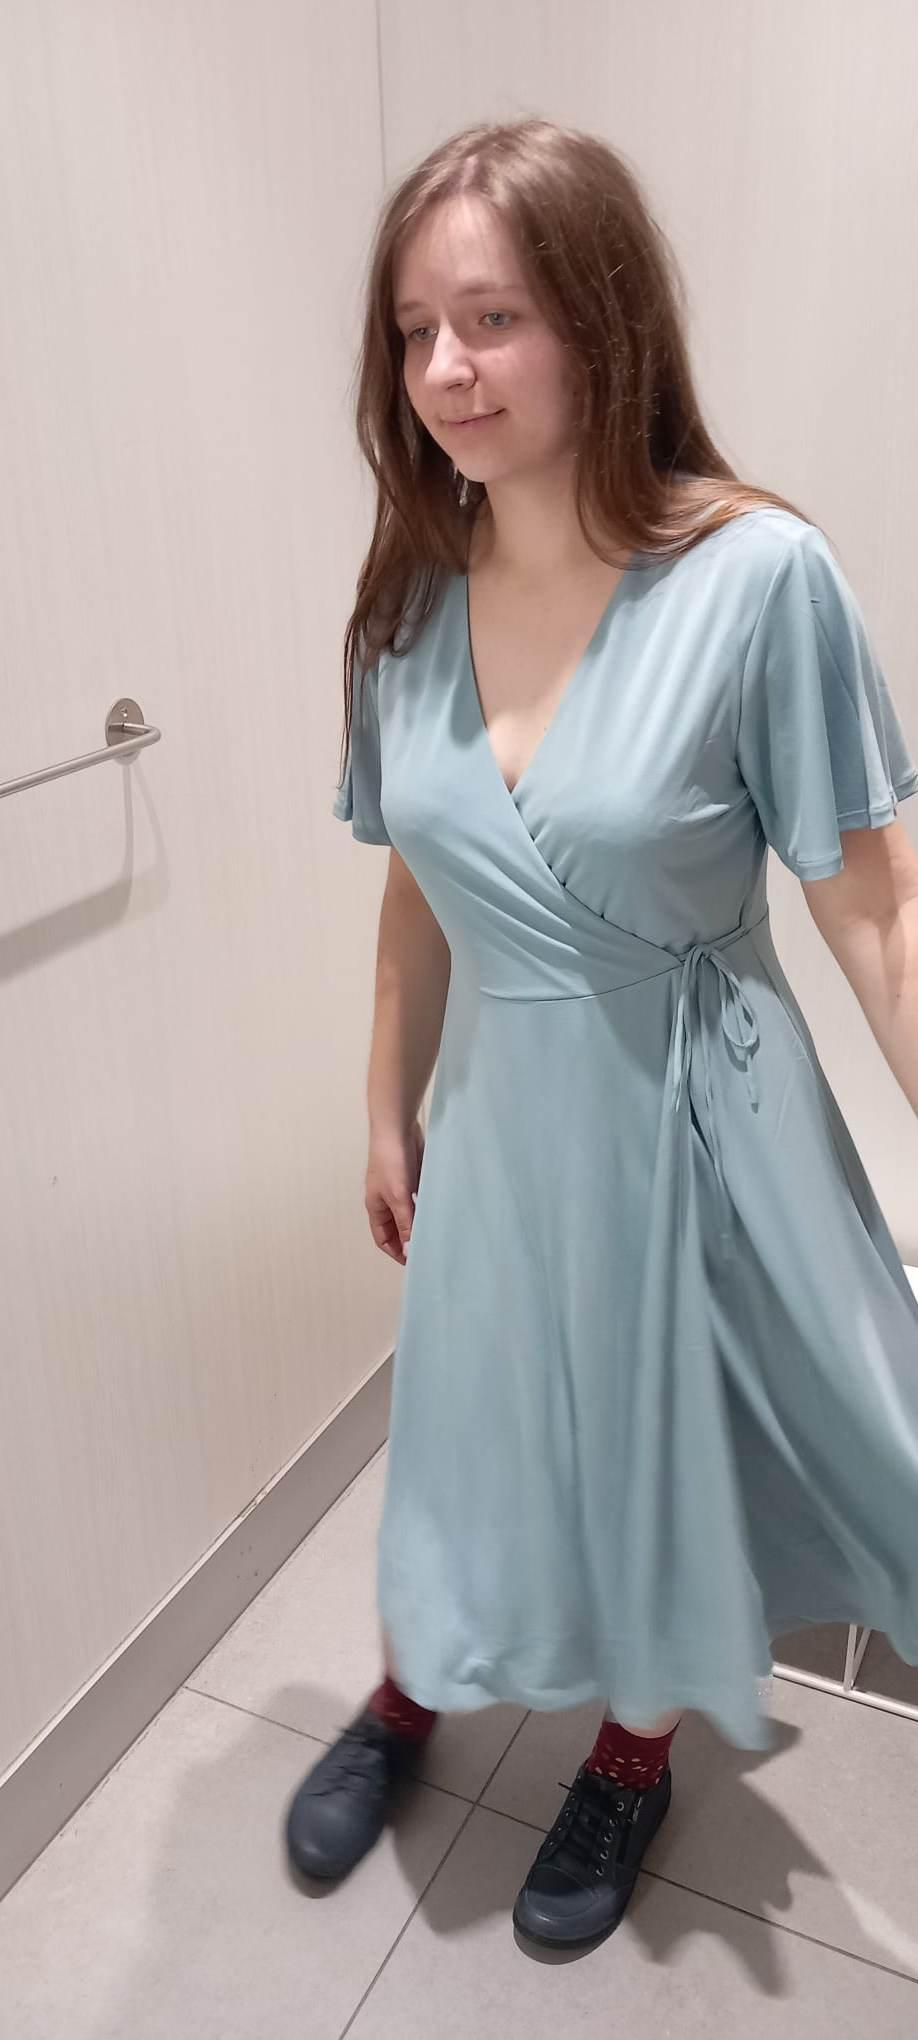dress: (333, 480, 918, 1755)
